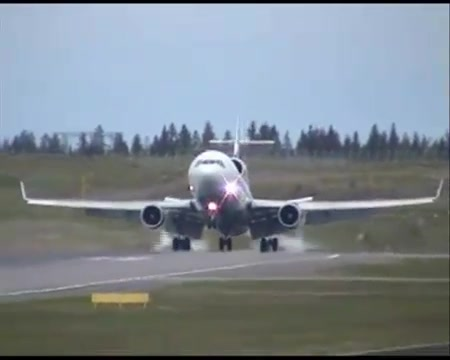aeroplane: (21, 118, 445, 254)
